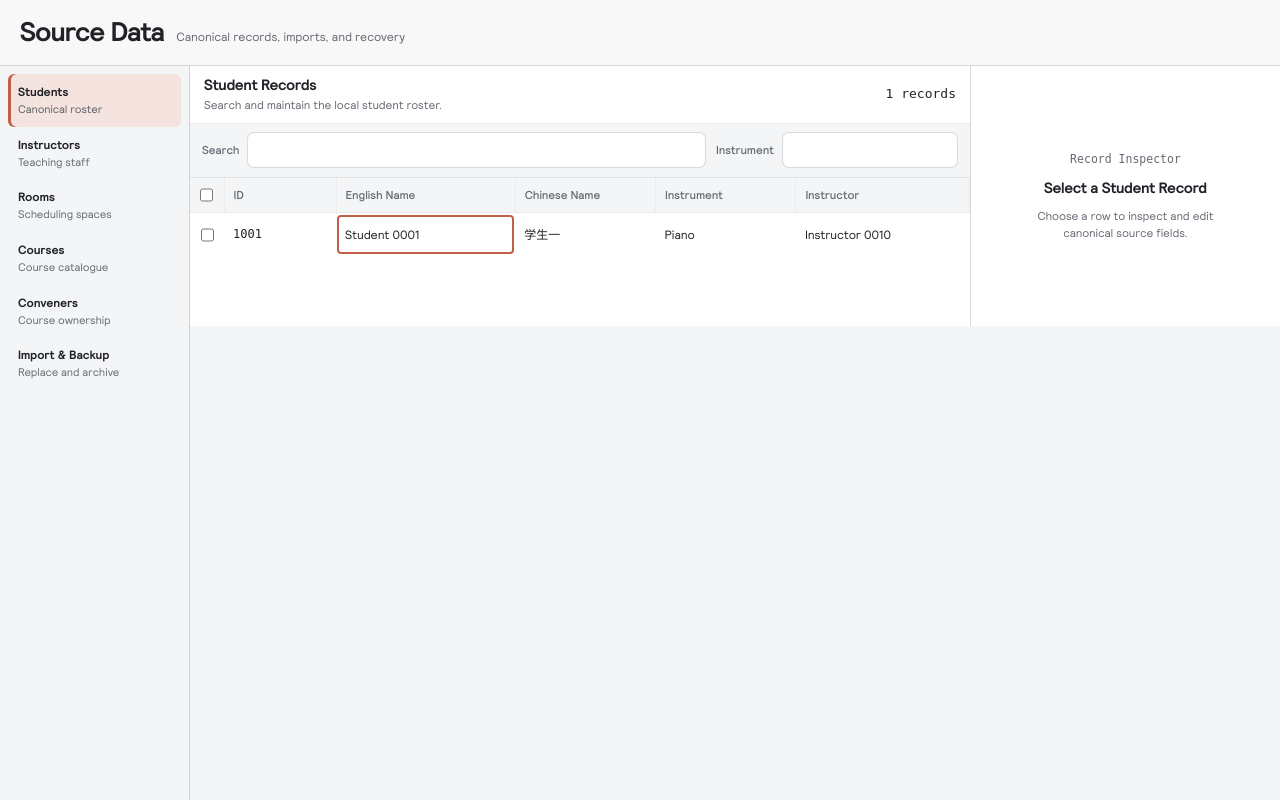
Scenario: StudentHubPage › opens a student through the accessible row link and saves only the touched field and version
Press Enter
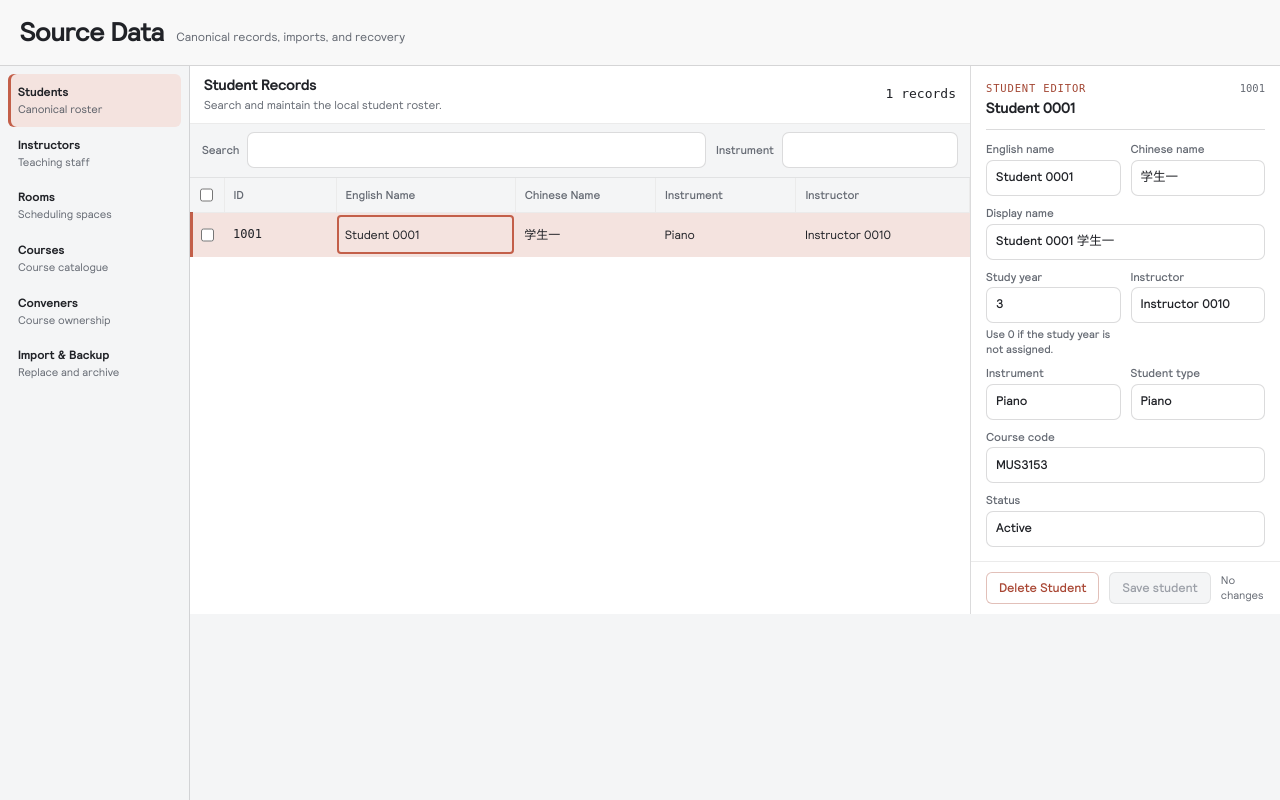
Replace the text in the field labelled "Instructor" with "Instructor 0001" at (1198, 305), box 1130,287 -> 1265,323
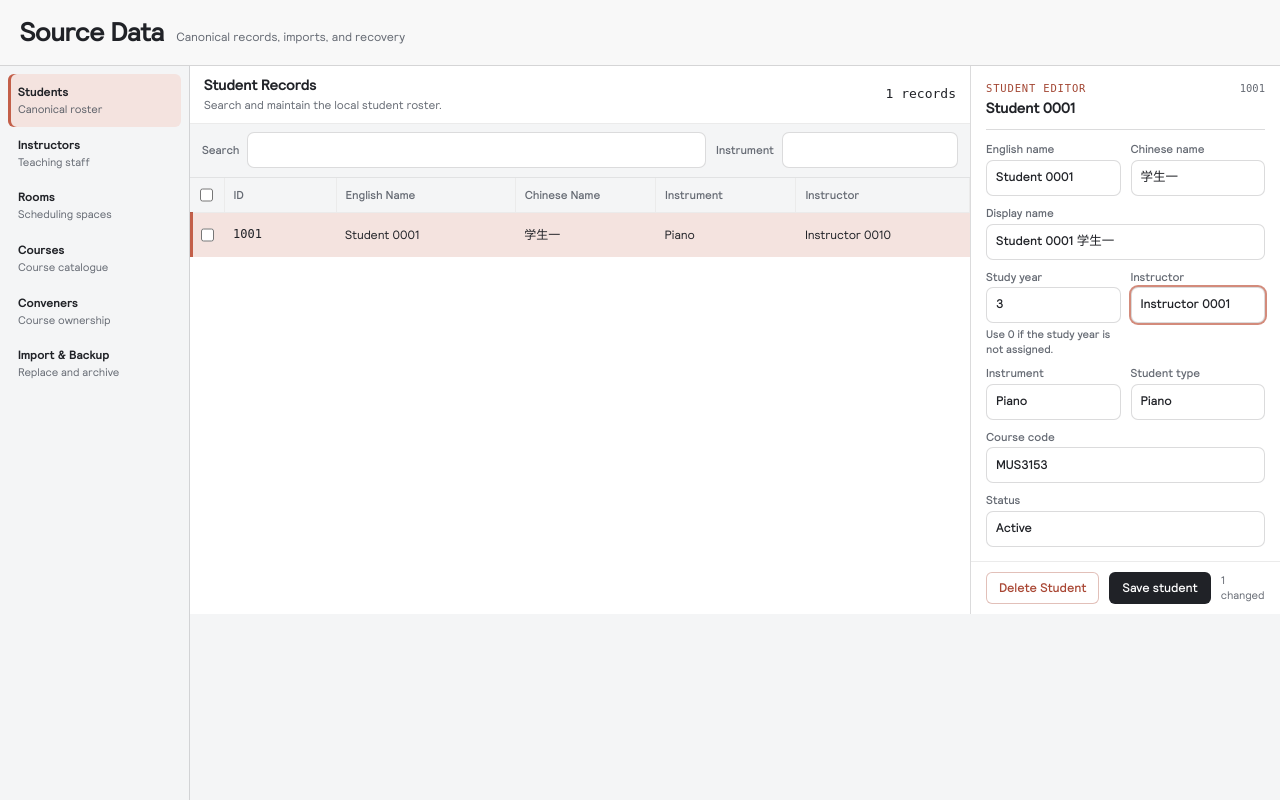
Click the button "Save student" at (1160, 588), box 1110,572 -> 1211,604
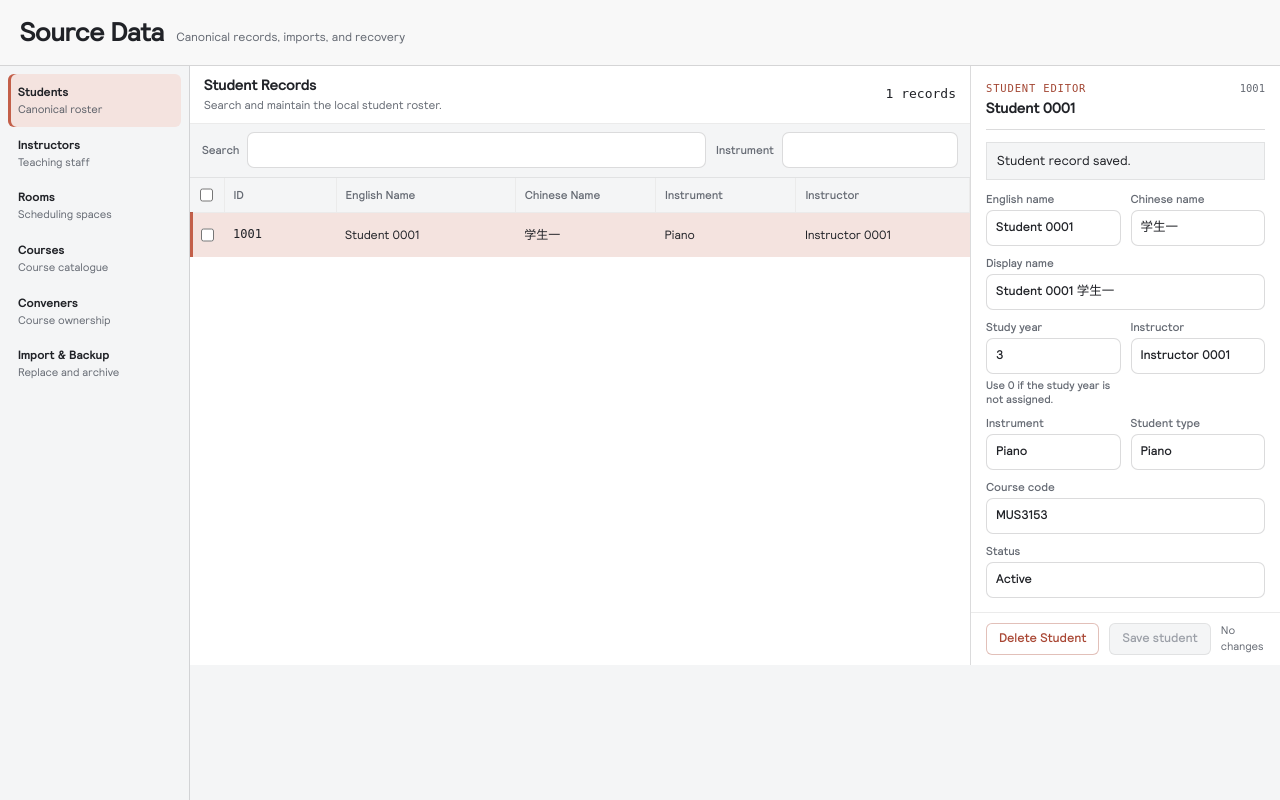
Expected: the text "Student record saved." is shown, 986,142 -> 1265,180
